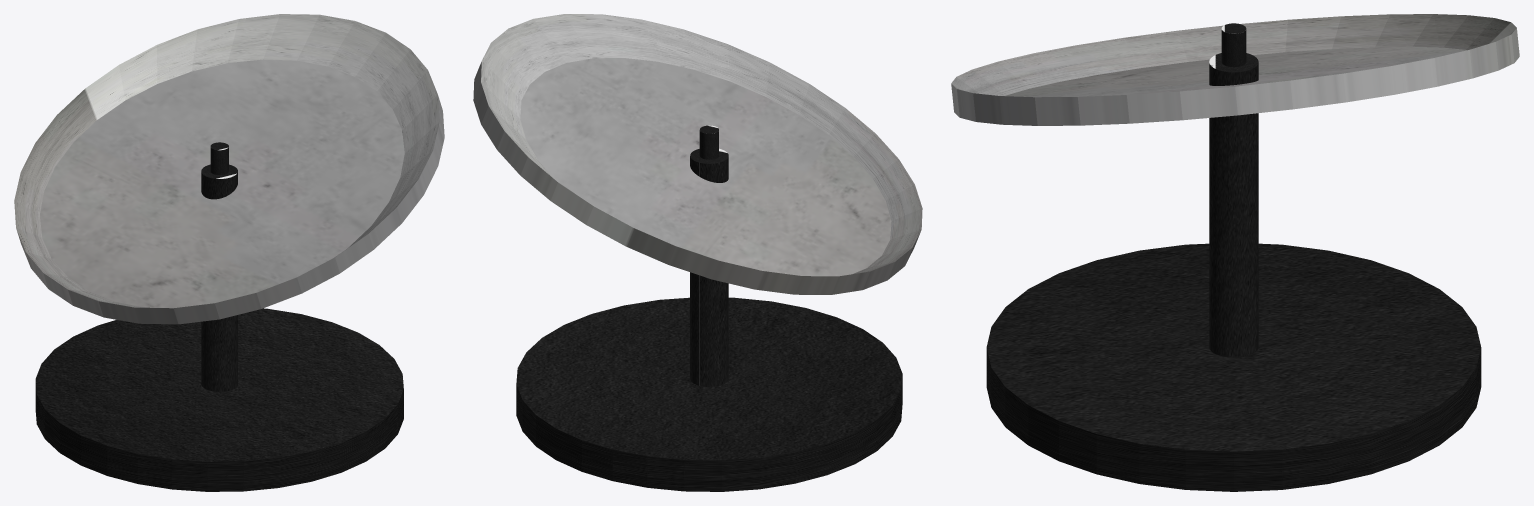
Rendered from antena.fbx.
The picture shows the model from 3 angles, left to right: view 1: azimuth 30°, elevation 25°; view 2: azimuth 150°, elevation 25°; view 3: azimuth 270°, elevation 25°; orthographic projection. The views are drawn at different scales.
Visible parts, largest first — view 1: Cilindro.002; view 2: Cilindro.002; view 3: Cilindro.002.
Boxes of the visible parts, x1,y1,x2,y2 form: Cilindro.002: (14, 14, 444, 491); Cilindro.002: (473, 14, 922, 491); Cilindro.002: (951, 14, 1519, 491).
Size of the model in its own units: 234 by 192 by 230.
2 materials, 2 textured.
